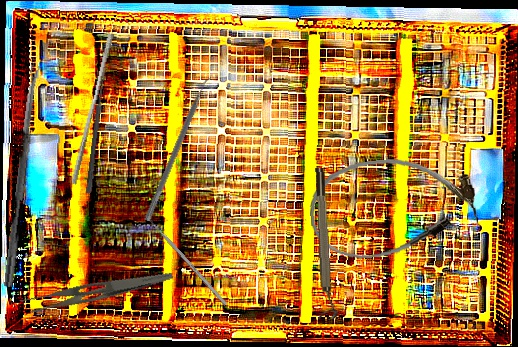Cannula: (305, 150, 481, 264)
Dressing Forceps: (19, 255, 174, 322)
Fixation Ring: (312, 167, 339, 320)
Pusher: (142, 212, 228, 306), (70, 31, 115, 187)
Spatula Surgical: (143, 74, 215, 225)
Surgical Spoon: (3, 64, 42, 288), (85, 66, 108, 194)
